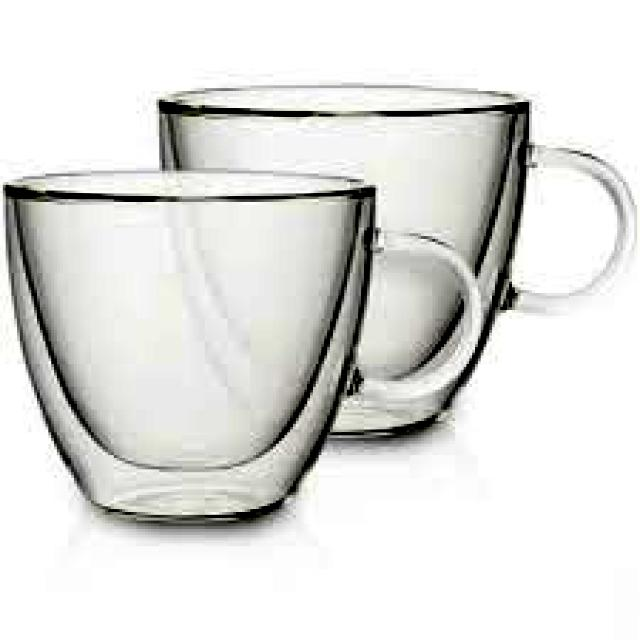Glass: (147, 77, 640, 442), (0, 163, 487, 532)
